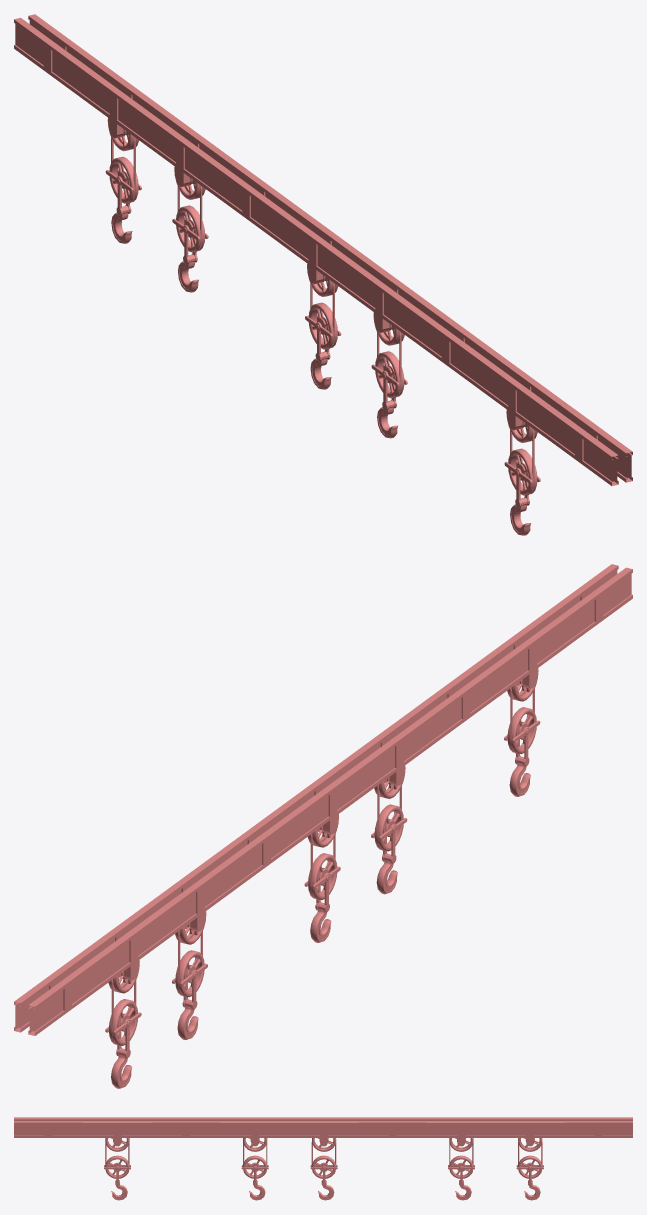
Rendered from Generator_Beam_2.fbx.
3 views of the same model, one above another, from view 1: azimuth 30°, elevation 25°; view 2: azimuth 150°, elevation 25°; view 3: azimuth 270°, elevation 25° (orthographic). The views are drawn at different scales.
Parts seen in each view (by area): view 1: Generator_Beam_2; view 2: Generator_Beam_2; view 3: Generator_Beam_2.
Part boxes in pixels (x1=…): Generator_Beam_2: x1=14, y1=14, x2=632, y2=535; Generator_Beam_2: x1=14, y1=564, x2=632, y2=1088; Generator_Beam_2: x1=14, y1=1117, x2=632, y2=1200.
Size of the model in its own units: 30.65 by 214 by 1499.
